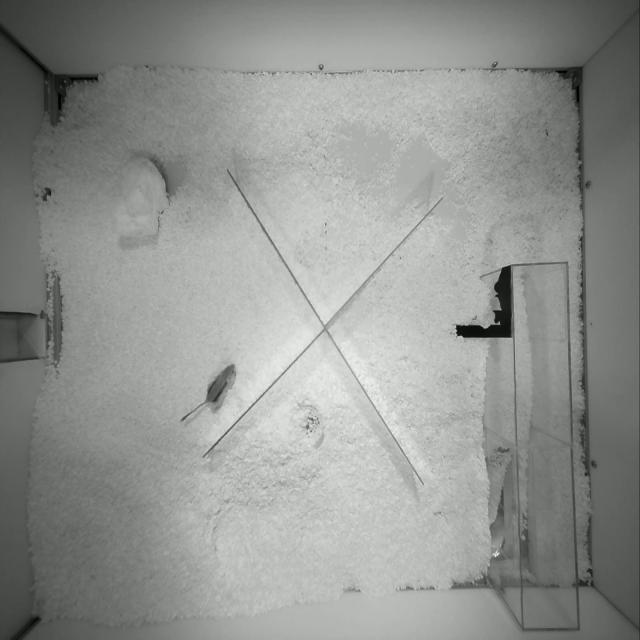pup_v_stripe: (181, 365, 235, 421)
